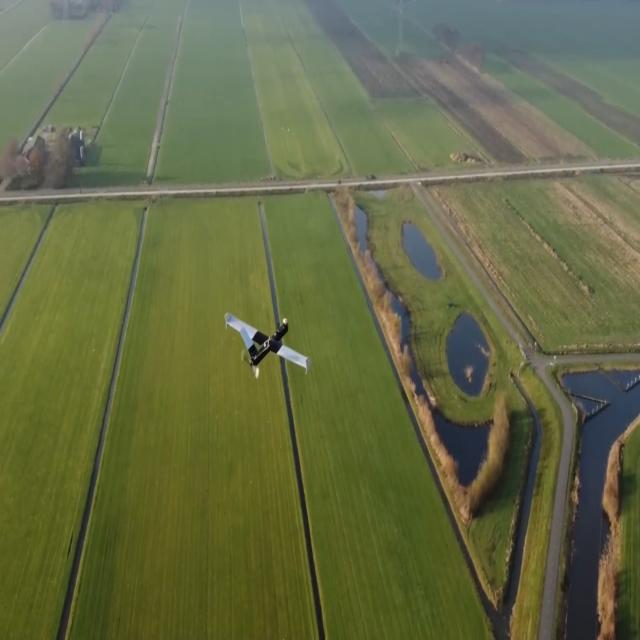iha: (252, 341, 272, 345)
